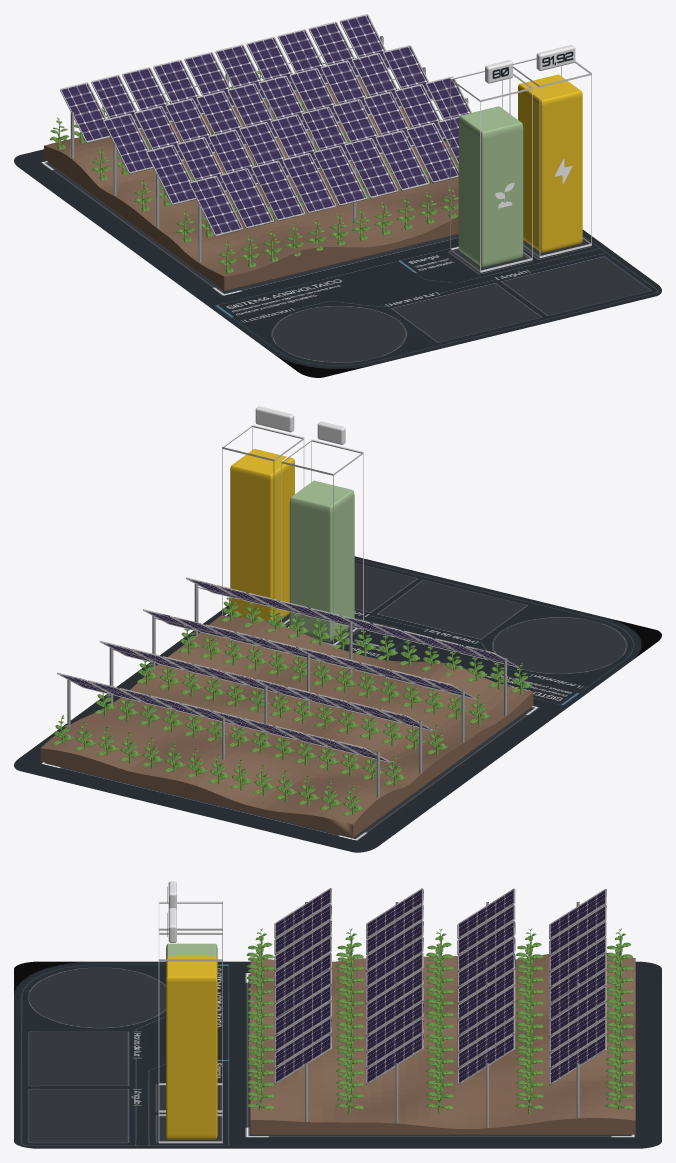
Rendered from alemania+verano+35.glb.
3 views of the same model, one above another, from view 1: azimuth 30°, elevation 25°; view 2: azimuth 150°, elevation 25°; view 3: azimuth 270°, elevation 25° (orthographic). The views are drawn at different scales.
Visible parts, largest first — view 1: panelpintado.002 (×2), Tablero, Cube, Box 1, Box, Cube.001 (×2), Cube.002, Box 2; view 2: Cube, Tablero, panelpintado.002 (×2), Box 1, Box, Cube.001 (×2), Cube.002 (×2), Box 2; view 3: Tablero, panelpintado.002 (×2), Cube, Box 1, Cube.001 (×2), Cube.002, Box.
Boxes of the visible parts, bbox=[...] form: panelpintado.002 (×2): bbox=[60, 14, 471, 236]; Tablero: bbox=[14, 139, 661, 377]; Cube: bbox=[44, 76, 458, 290]; Box 1: bbox=[518, 74, 582, 252]; Box: bbox=[458, 106, 523, 267]; Cube.001 (×2): bbox=[70, 36, 532, 272]; Cube.002: bbox=[509, 57, 591, 258]; Box 2: bbox=[536, 45, 575, 70]; Cube: bbox=[40, 615, 533, 837]; Tablero: bbox=[14, 556, 661, 852]; panelpintado.002 (×2): bbox=[57, 577, 519, 762]; Box 1: bbox=[230, 449, 294, 623]; Box: bbox=[289, 480, 354, 641]; Cube.001 (×2): bbox=[67, 439, 507, 798]; Cube.002 (×2): bbox=[71, 425, 503, 755]; Box 2: bbox=[255, 406, 294, 432]; Tablero: bbox=[14, 961, 661, 1148]; panelpintado.002 (×2): bbox=[274, 888, 606, 1085]; Cube: bbox=[248, 952, 635, 1134]; Box 1: bbox=[166, 956, 217, 1139]; Cube.001 (×2): bbox=[158, 901, 579, 1127]; Cube.002: bbox=[158, 932, 222, 1143]; Box: bbox=[166, 943, 217, 958].
Size of the model in its own units: 0.2418 by 0.1274 by 0.3537.
Materials: 16 (5 with a texture image).
